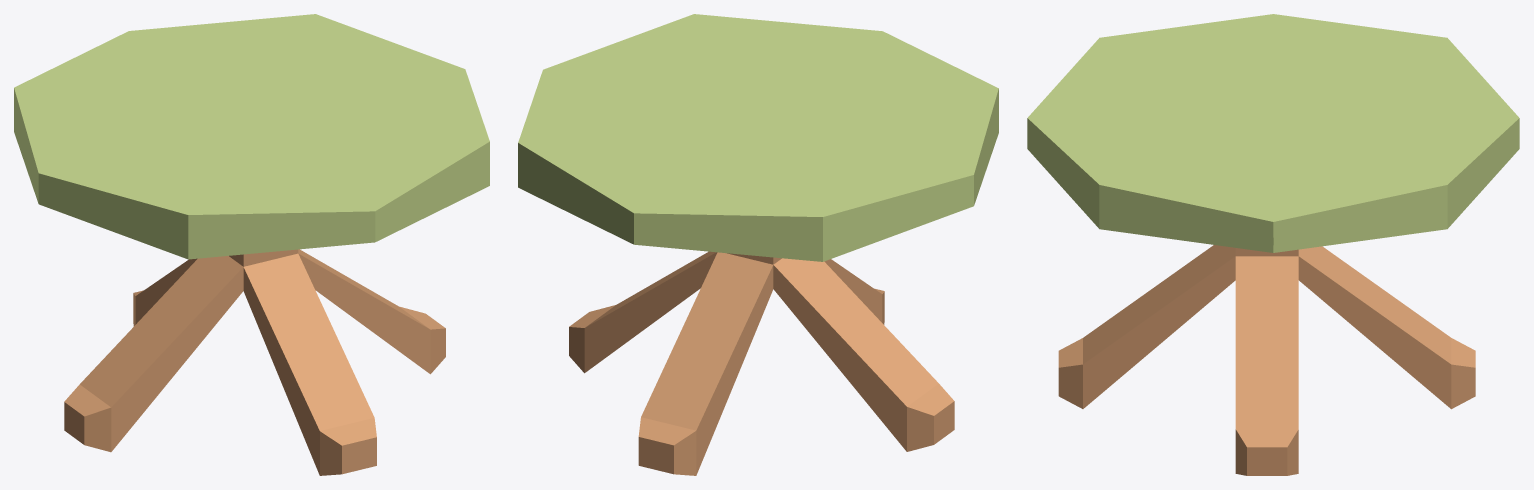
3 renders of one model, left to right at view 1: azimuth 30°, elevation 25°; view 2: azimuth 150°, elevation 25°; view 3: azimuth 270°, elevation 25°, orthographic.
Visible parts, largest first — view 1: Cylinder.003, PianoChair3Leg.015, PianoChair3Leg.014, PianoChair3Leg.016, PianoChair3Leg.013, PianoChairLegUpper.003; view 2: Cylinder.003, PianoChair3Leg.013, PianoChair3Leg.014, PianoChair3Leg.016, PianoChair3Leg.015; view 3: Cylinder.003, PianoChair3Leg.016, PianoChair3Leg.015, PianoChair3Leg.013.
Part boxes in pixels (x1,y1,x2,y2): Cylinder.003: (14, 14, 489, 259); PianoChair3Leg.015: (243, 253, 376, 475); PianoChair3Leg.014: (64, 256, 243, 452); PianoChair3Leg.016: (298, 249, 445, 374); PianoChair3Leg.013: (133, 258, 197, 326); PianoChairLegUpper.003: (229, 249, 298, 266); Cylinder.003: (518, 14, 998, 261); PianoChair3Leg.013: (638, 252, 773, 475); PianoChair3Leg.014: (773, 258, 954, 451); PianoChair3Leg.016: (569, 251, 717, 373); PianoChair3Leg.015: (824, 259, 884, 324); Cylinder.003: (1027, 14, 1519, 252); PianoChair3Leg.016: (1235, 256, 1298, 475); PianoChair3Leg.015: (1058, 245, 1235, 408); PianoChair3Leg.013: (1298, 246, 1475, 409).
Bounding box in the file's own units: 0.41 × 0.2616 × 0.41.
1 material, 1 textured.
